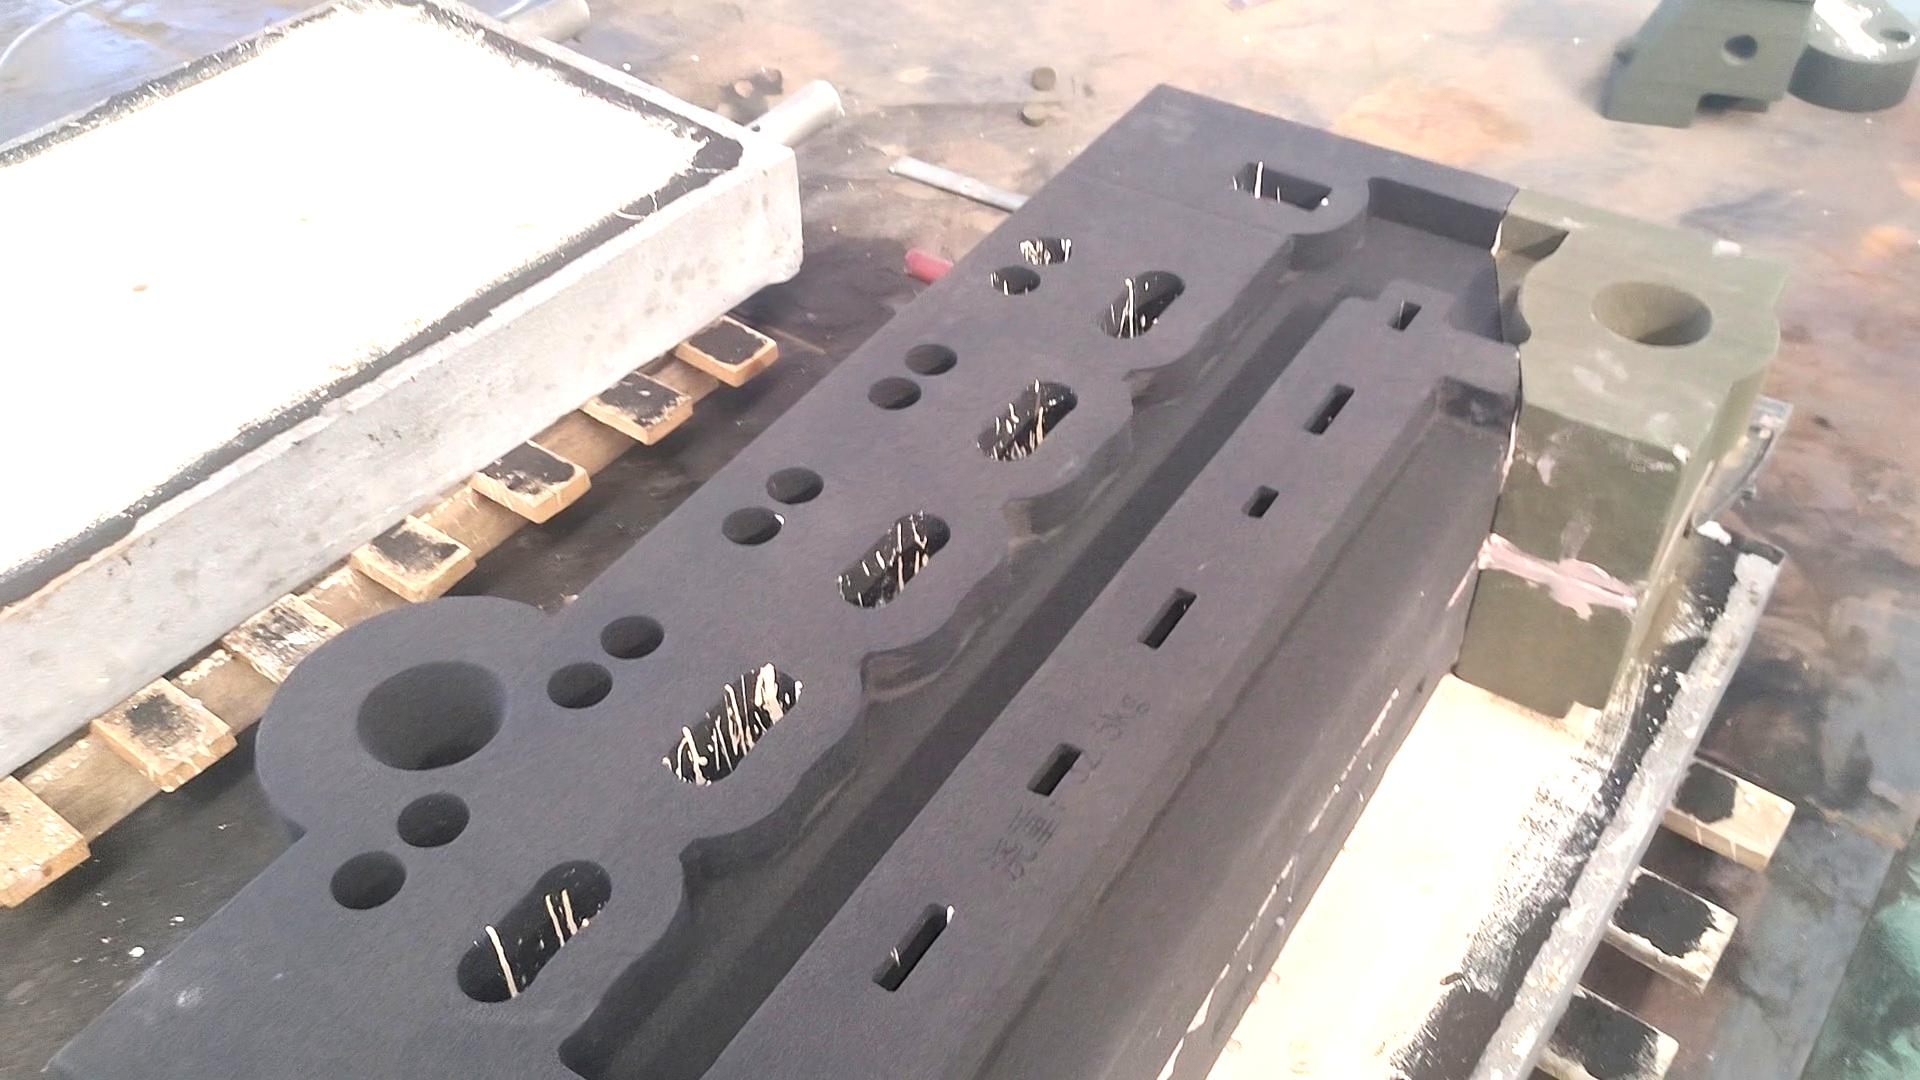pouring hole: (357, 661, 509, 770), (1585, 277, 1713, 347)
